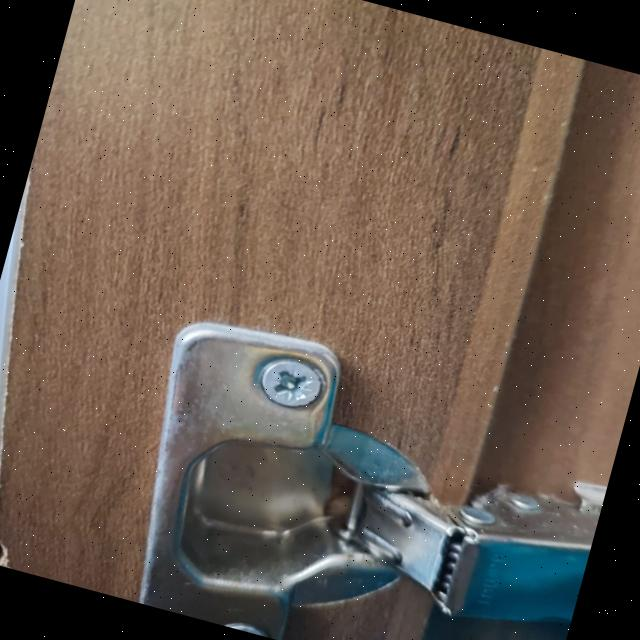Pozidriv: (250, 349, 328, 421)
